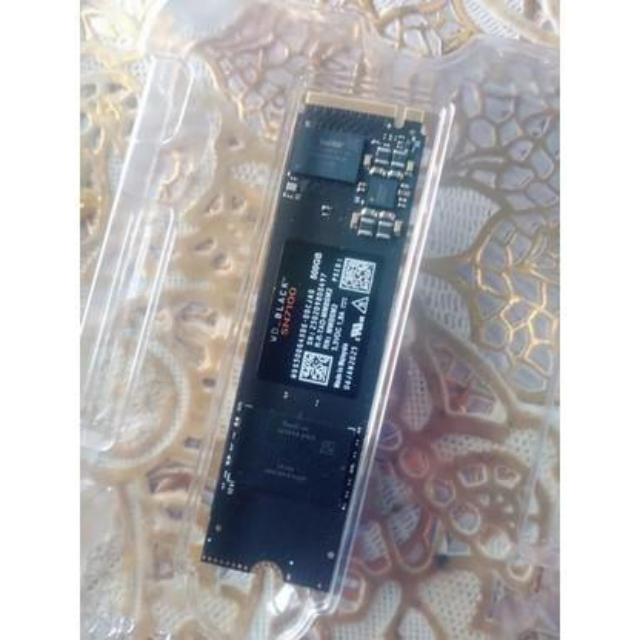CPU_Fan: (179, 71, 427, 611)
